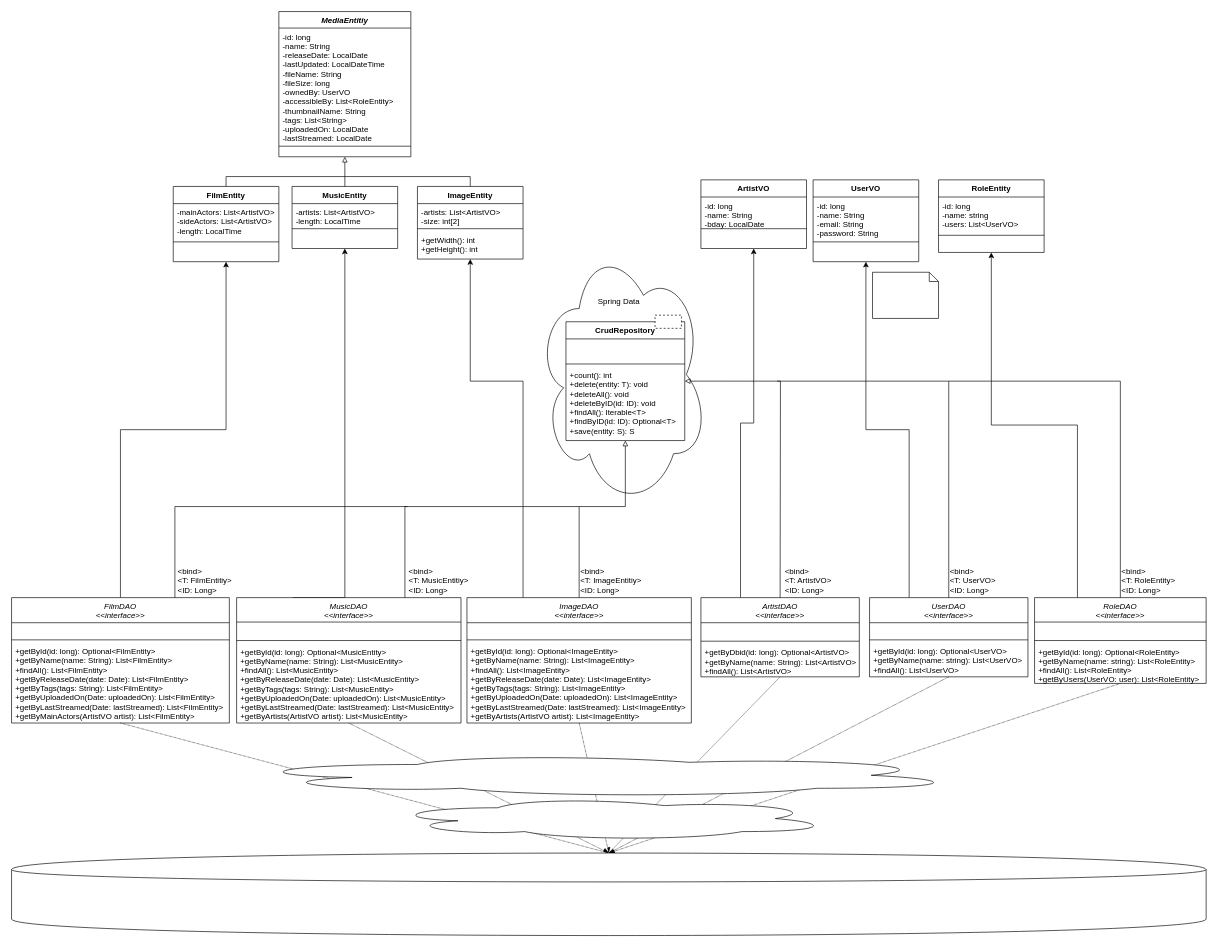
Some shapes in this 1218 by 947 pixel diagram are drawn without their labels. Each missing label, with the centre of its shape:
"auto-generated DAO classes (created by framework)" belongs at point (598, 775).
"DB" belongs at point (608, 894).
"JDBC" belongs at point (608, 818).
"T, ID" belongs at point (667, 321).
"UserVO: Store password as hash (obviously)" belongs at point (905, 295).
